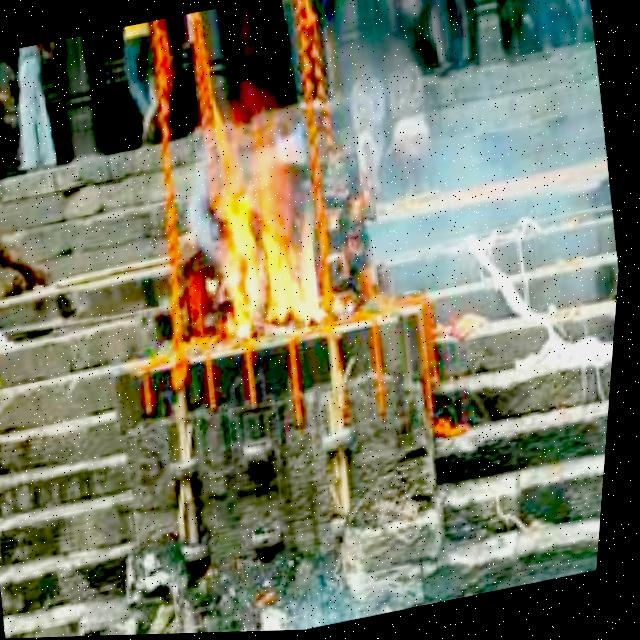Fire: (193, 121, 344, 349)
